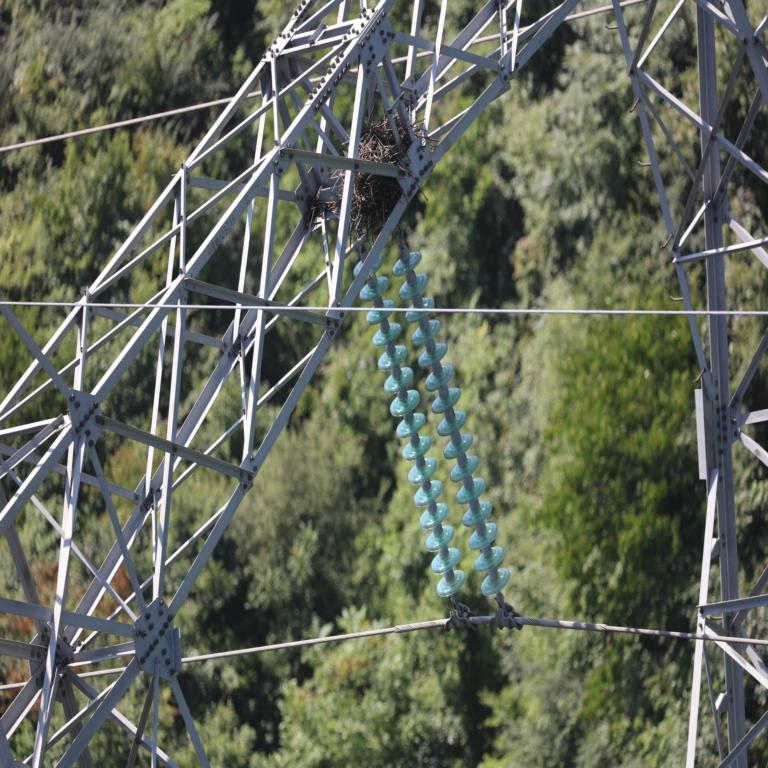nest: (337, 122, 423, 241)
